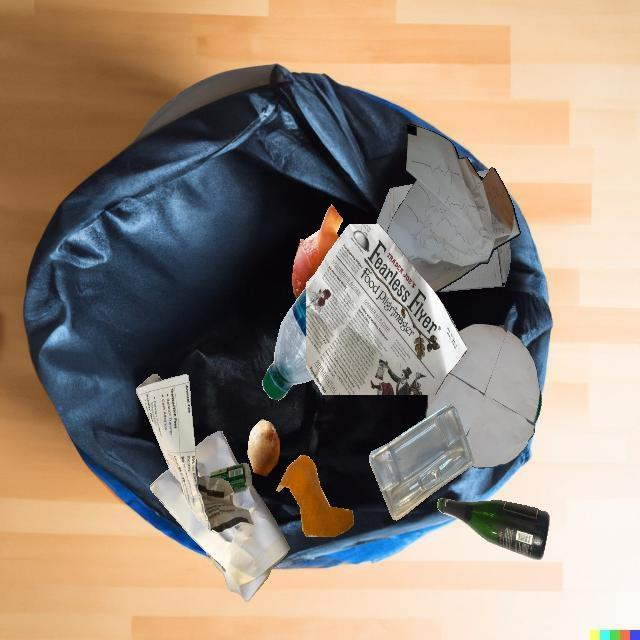biowaste: (276, 455, 354, 537), (292, 204, 343, 299), (247, 419, 280, 476)
cardboard: (391, 172, 509, 241), (437, 241, 511, 292)
glass: (437, 498, 549, 560)
paper: (306, 224, 467, 395), (387, 124, 520, 293), (136, 374, 254, 533), (150, 468, 290, 601), (425, 324, 540, 468)
plastic: (370, 404, 473, 520), (262, 287, 313, 400), (206, 463, 251, 494), (535, 387, 541, 423)
